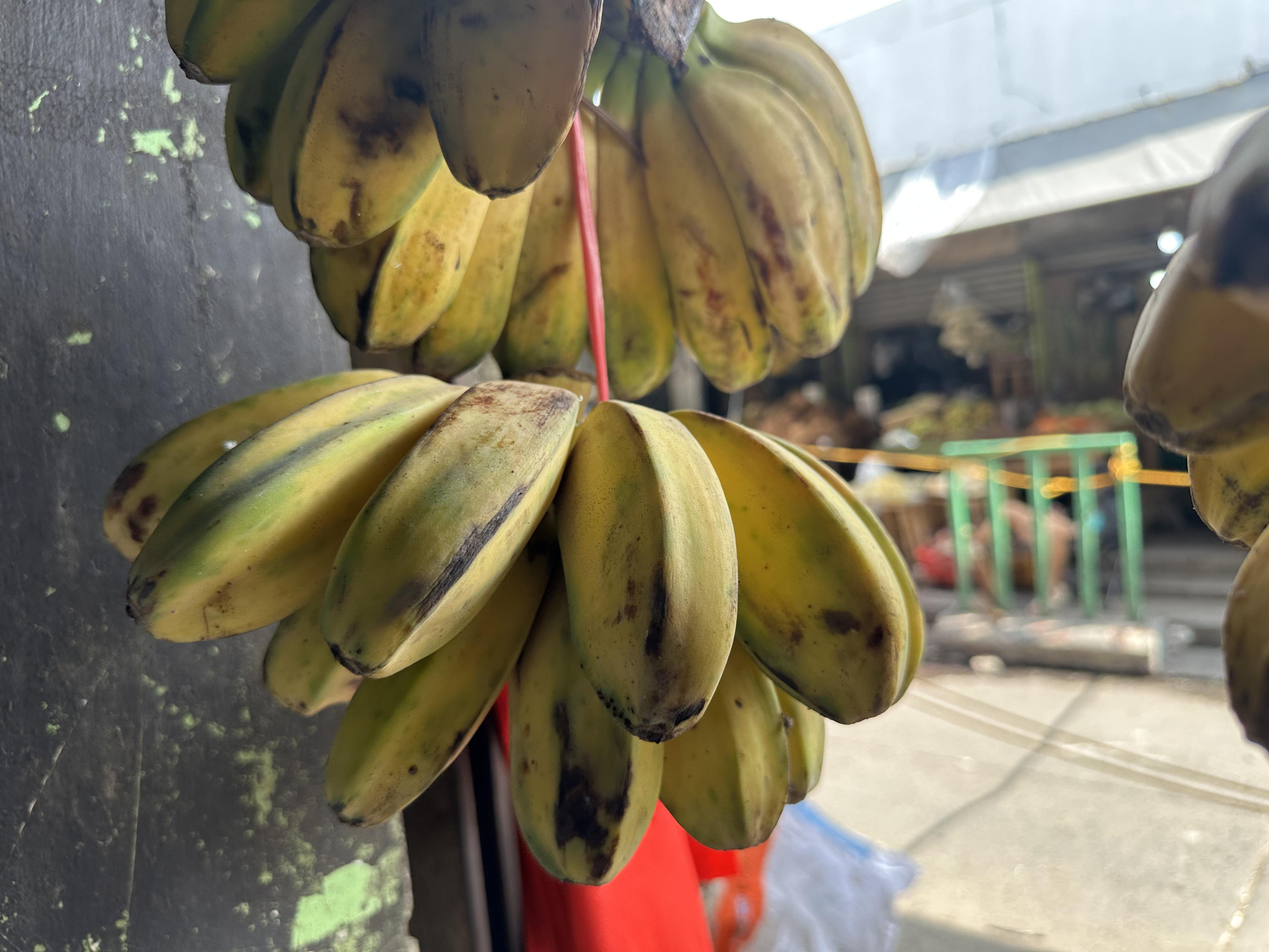underripe: (103, 370, 923, 885), (166, 0, 601, 378), (583, 13, 882, 400)
